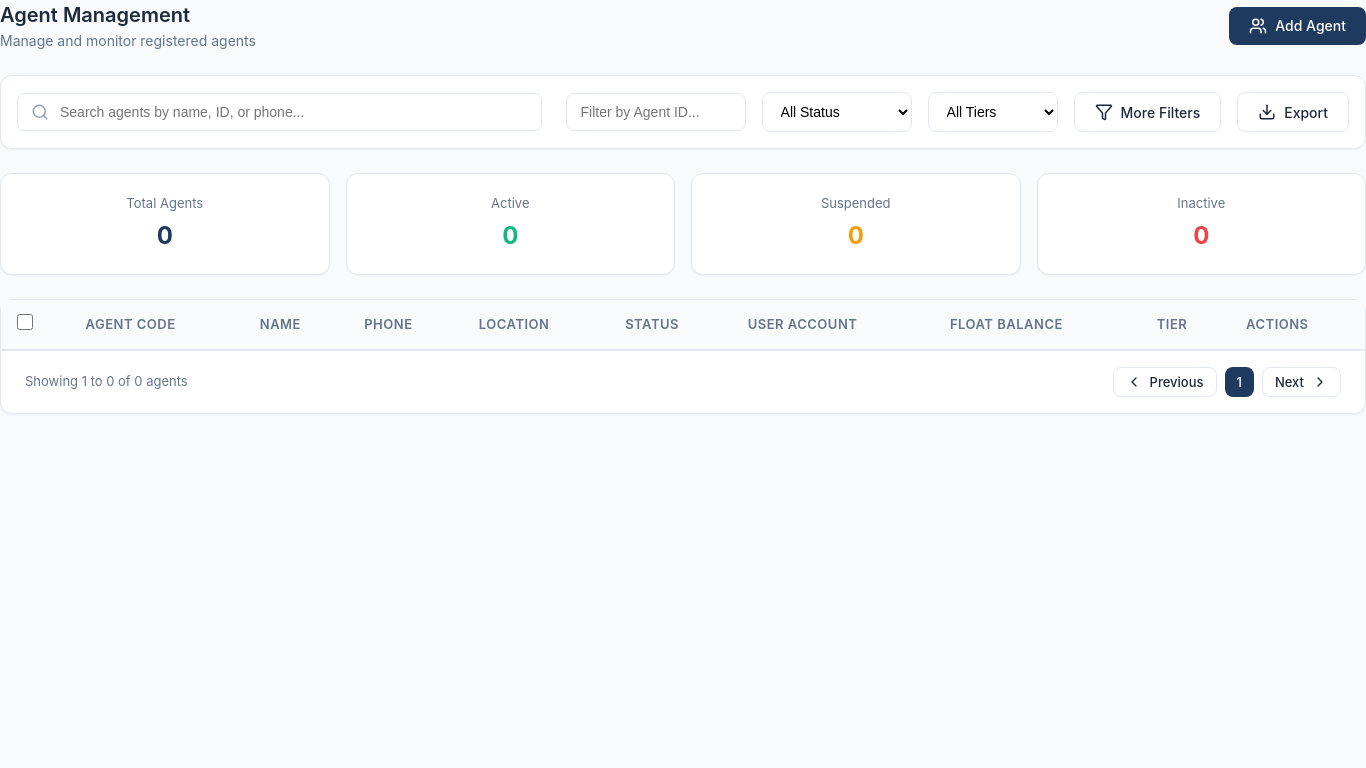
Agents › should close modal when close button is clicked
Click the button with test id "add-agent-button": (1298, 26) [1229, 6, 1365, 44]
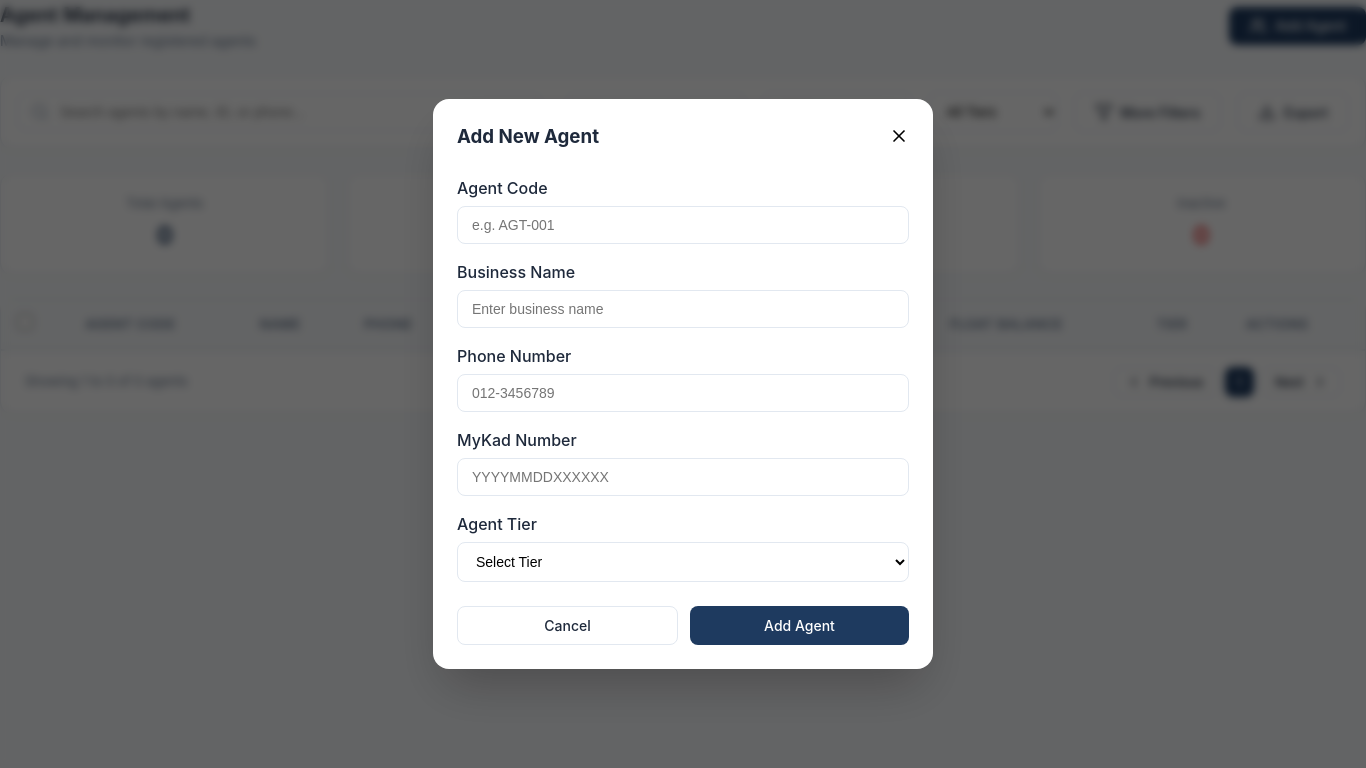
Now the element with test id "add-agent-modal" is shown
Click the button with test id "close-modal-button": (899, 138) [889, 126, 909, 149]
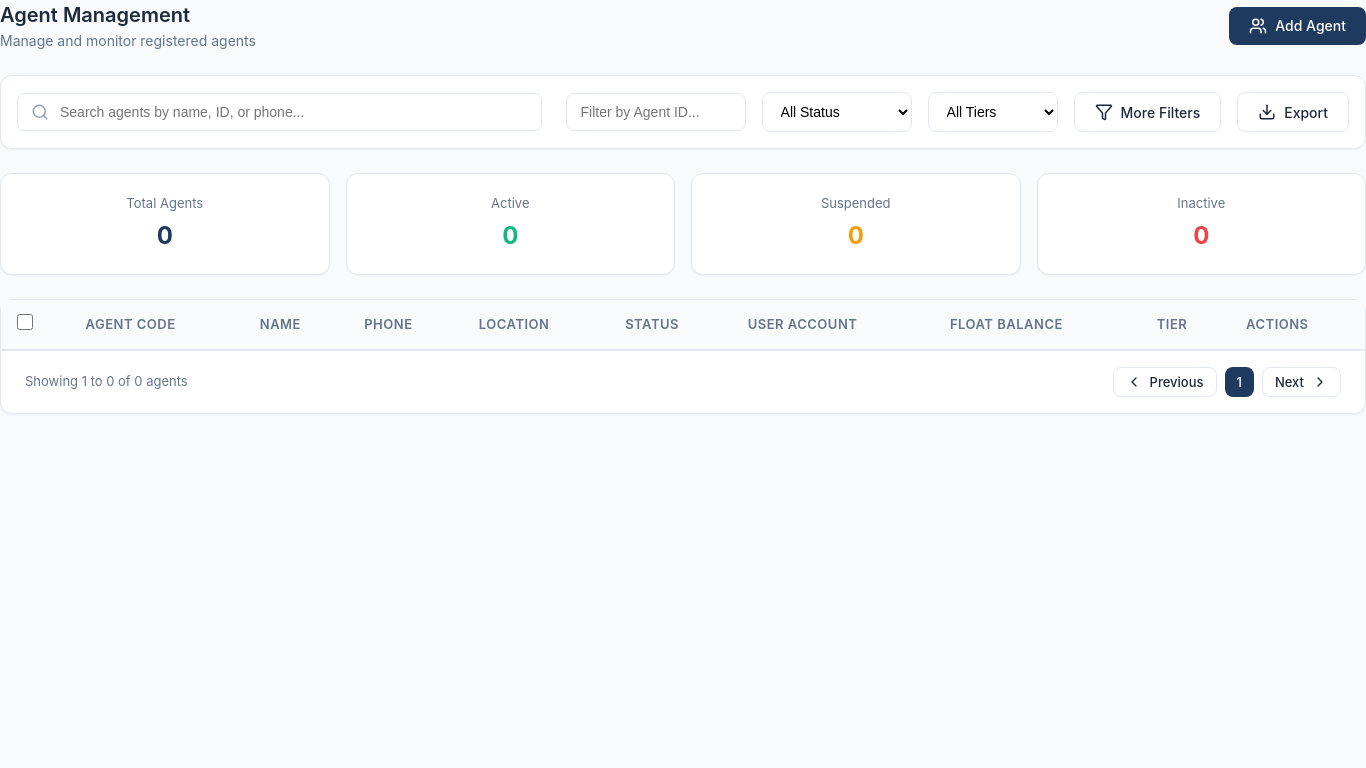
Now the element with test id "add-agent-modal" is gone
